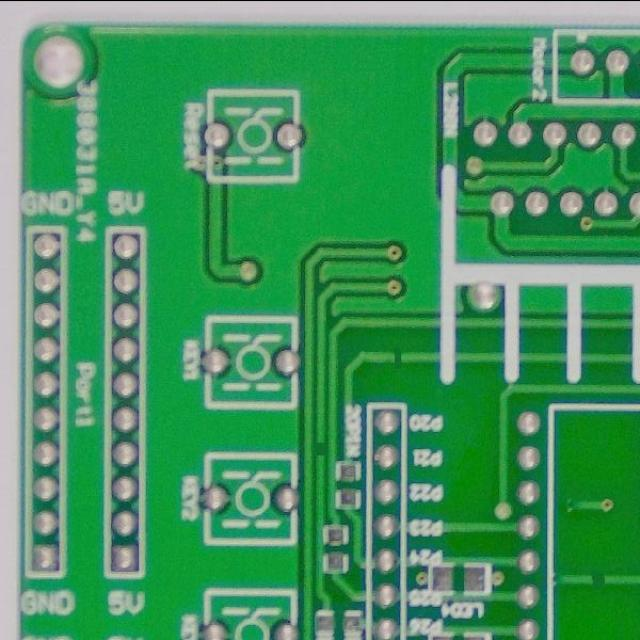open_circuit: (588, 565, 611, 591), (388, 347, 407, 368), (312, 437, 326, 459)
